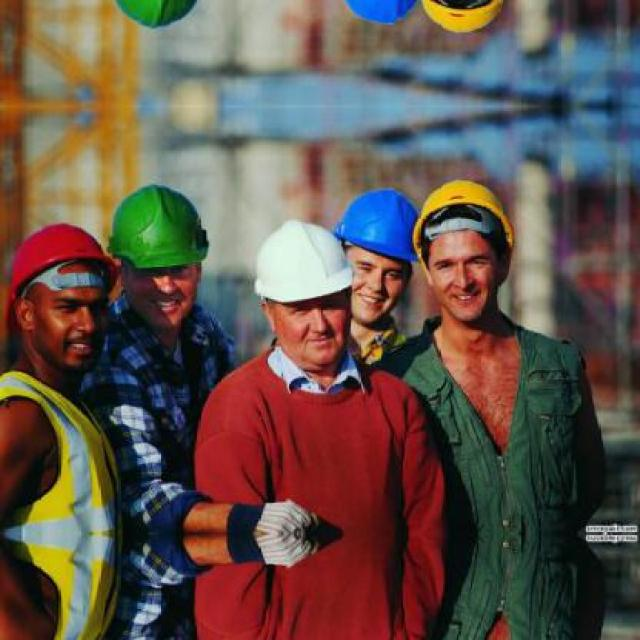helmet: (6, 219, 120, 372), (252, 219, 354, 365), (412, 175, 512, 320), (108, 184, 206, 330), (331, 186, 423, 324), (411, 0, 512, 39), (107, 0, 207, 29)
